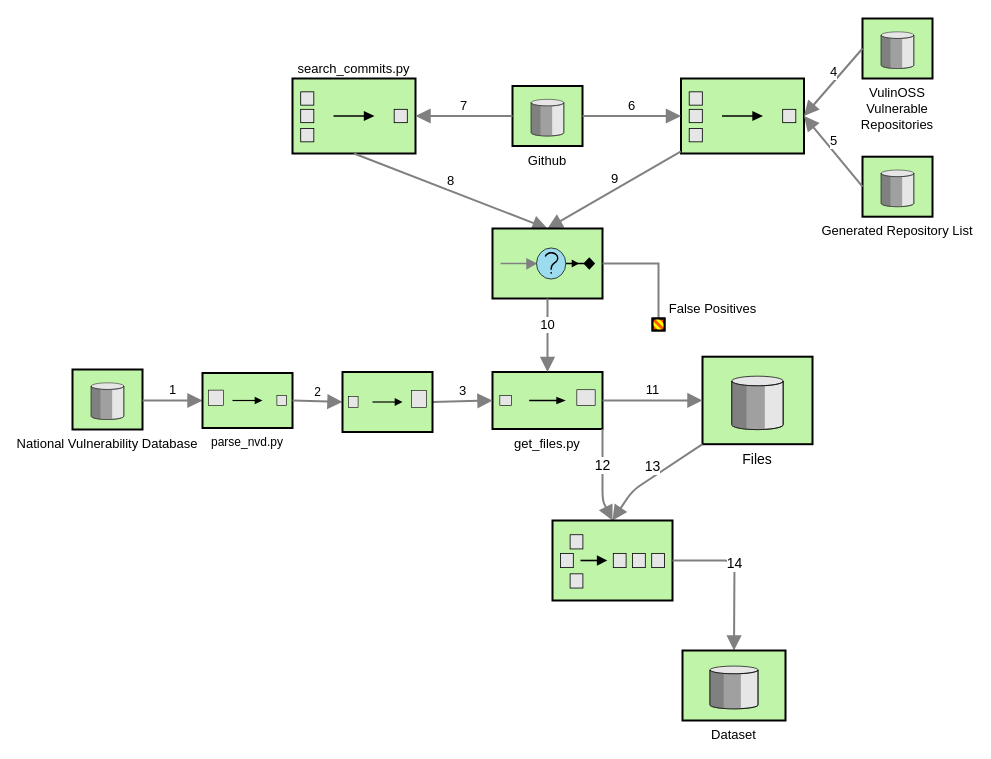
The diagram is 991 pixels wide and 759 high, and some of its shapes have lost their labels. The shapes that lost their labels are listed below. From the top down, each one's box as (x1, y1, x2, y2) in pixels, then its label:
(680, 77, 804, 154): commit_miner.py
(491, 227, 603, 299): sieve.py
(341, 370, 433, 432): clean_pulls.py
(551, 519, 673, 601): make_directories.py populate_directories.py
